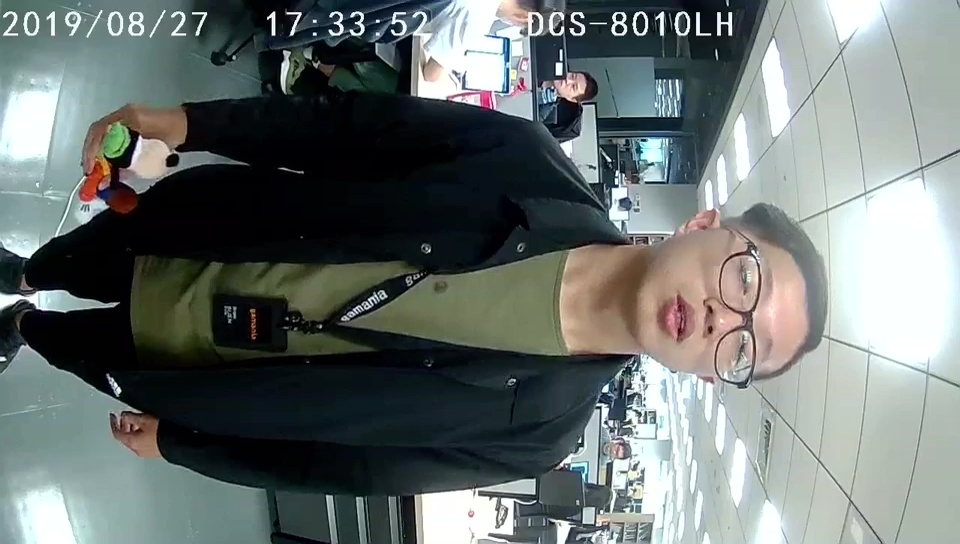goofy: (71, 113, 174, 226)
